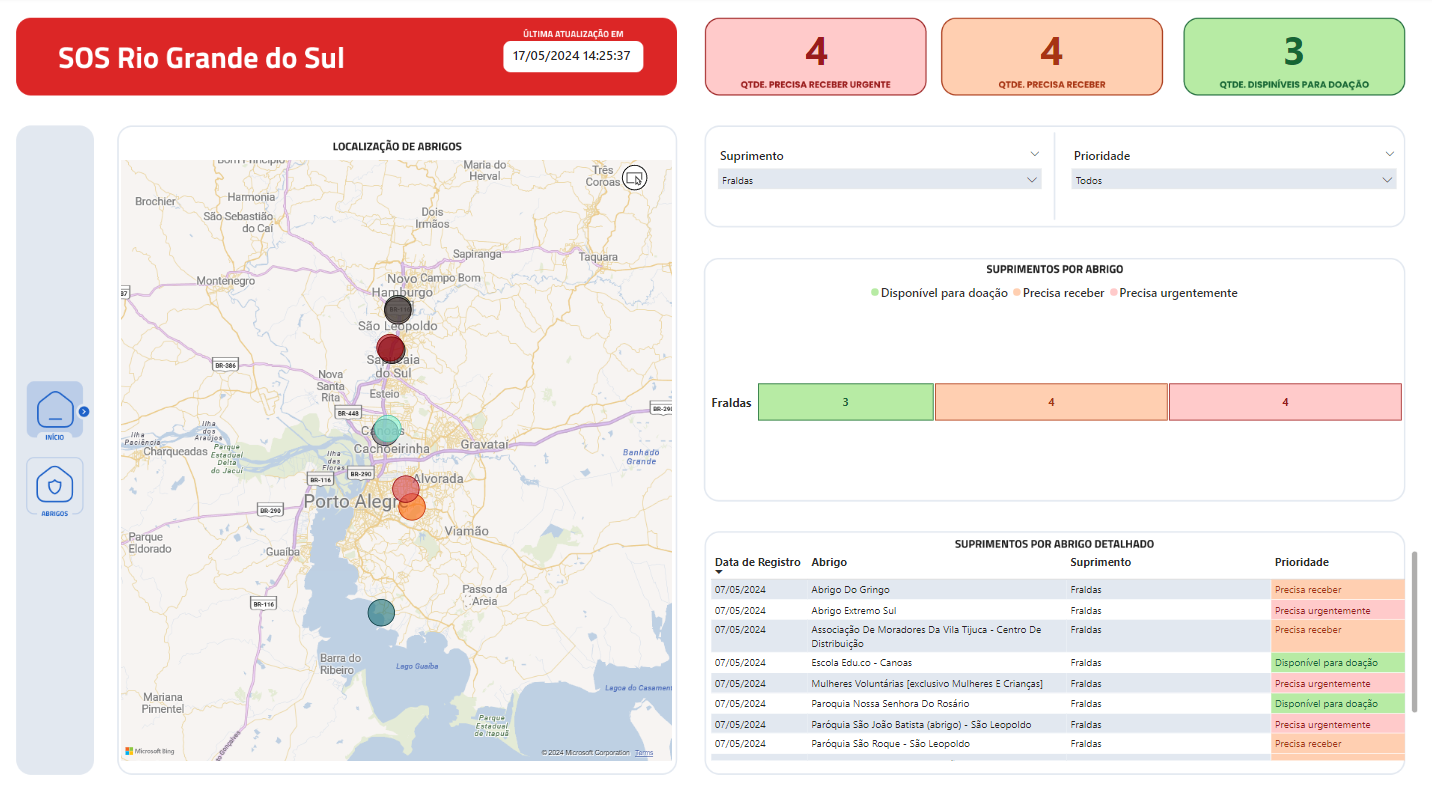

The dashboard page shown, as its layout file describes it:
{"tool":"powerbi","page":{"name":"SUPRIMENTOS","canvas":[1920,1080],"ordinal":0},"visuals":[{"type":"map","title":"Mapa dos abrigos","fields":{"Y":["Avg(DIMENSAO ABRIGO.Latitude)"],"X":["Avg(DIMENSAO ABRIGO.Longitude)"],"Series":["DIMENSAO ABRIGO.Nome do Abrigo"],"Category":["DIMENSAO ABRIGO.Endereço Completo"],"Size":["CountNonNull(FATO DOAÇÕES.SK Suprimento)"]},"box":[159.3,213.5,745.6,814.3],"z":0},{"type":"tableEx","title":"Suprimentos por abrigo","fields":{"Values":["FATO DOAÇÕES.Data Inclusão","DIMENSAO ABRIGO.Nome do Abrigo","DIMENSAO SUPRIMENTO.Nome Tratado","DIMENSAO PRIORIDADE.Descrição"]},"box":[944.6,736.5,955.5,289.5],"z":1000},{"type":"slicer","fields":{"Values":["DIMENSAO SUPRIMENTO.Nome Tratado"]},"box":[950.1,196.9,452.4,101.3],"z":2000},{"type":"slicer","fields":{"Values":["DIMENSAO PRIORIDADE.Descrição"]},"box":[1422.4,196.9,454.2,101.3],"z":3000},{"type":"barChart","title":"Quantidade de abrigos para cada tipo de suprimento","fields":{"Category":["DIMENSAO SUPRIMENTO.Nome Tratado"],"Y":["CountNonNull(FATO DOAÇÕES.SK Suprimento)"],"Series":["DIMENSAO PRIORIDADE.Descrição"]},"box":[944.6,374.6,933.8,300.4],"z":4000},{"type":"card","fields":{"Values":["Min(DATA DE ATUALIZAÇÃO DOS DADOS.Data de Atualização)"]},"box":[671.4,61.5,188.2,39.8],"z":5000},{"type":"card","fields":{"Values":["Medidas.Qtde Precisa Receber Urgentemente"]},"box":[944.6,27.1,295,85.1],"z":6000},{"type":"card","fields":{"Values":["Medidas.Qtde Precisa Receber"]},"box":[1259.5,27.1,295,85.1],"z":7000},{"type":"card","fields":{"Values":["Medidas.Qtde Dispinível para Doação"]},"box":[1583.5,27.1,295,85.1],"z":8000},{"type":"actionButton","box":[24.3,605.7,100,100],"z":9000}]}

Visuals, with their boxes on the page's 1920x1080 design canvas (x1, y1, x2, y2). These are canvas units, not pixel positions in the 1432x802 screenshot, which may show the page scaled, cropped or inside an application window:
"Mapa dos abrigos" map: region(159, 214, 905, 1028)
"Suprimentos por abrigo" tableEx: region(945, 736, 1900, 1026)
slicer - DIMENSAO SUPRIMENTO.Nome Tratado: region(950, 197, 1402, 298)
slicer - DIMENSAO PRIORIDADE.Descrição: region(1422, 197, 1877, 298)
"Quantidade de abrigos para cada tipo de suprimento" barChart: region(945, 375, 1878, 675)
card - Min(DATA DE ATUALIZAÇÃO DOS DADOS.Data de Atualização): region(671, 62, 860, 101)
card - Medidas.Qtde Precisa Receber Urgentemente: region(945, 27, 1240, 112)
card - Medidas.Qtde Precisa Receber: region(1260, 27, 1554, 112)
card - Medidas.Qtde Dispinível para Doação: region(1584, 27, 1878, 112)
actionButton: region(24, 606, 124, 706)
